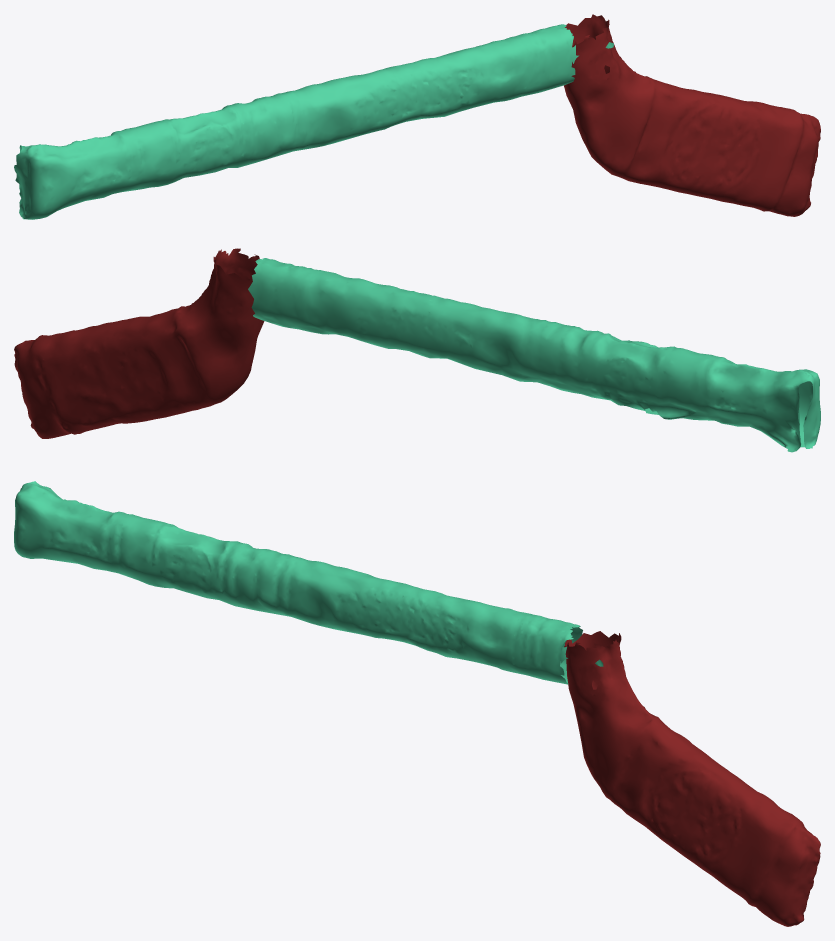
Rendered from object_deformed_8.obj.
3 renders of one model, top to bottom at view 1: azimuth 30°, elevation 25°; view 2: azimuth 150°, elevation 25°; view 3: azimuth 330°, elevation 25°, orthographic.
Bounding box in the file's own units: 0.5985 × 0.1808 × 0.0387.
